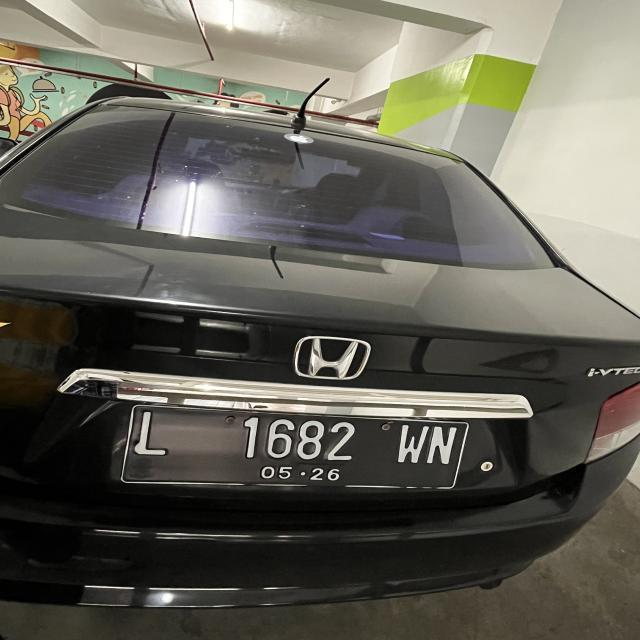1: (240, 416, 260, 458)
2: (329, 422, 355, 464)
6: (267, 418, 294, 460)
8: (300, 418, 322, 461)
L: (140, 405, 171, 463)
N: (430, 427, 456, 465)
W: (398, 422, 424, 464)
